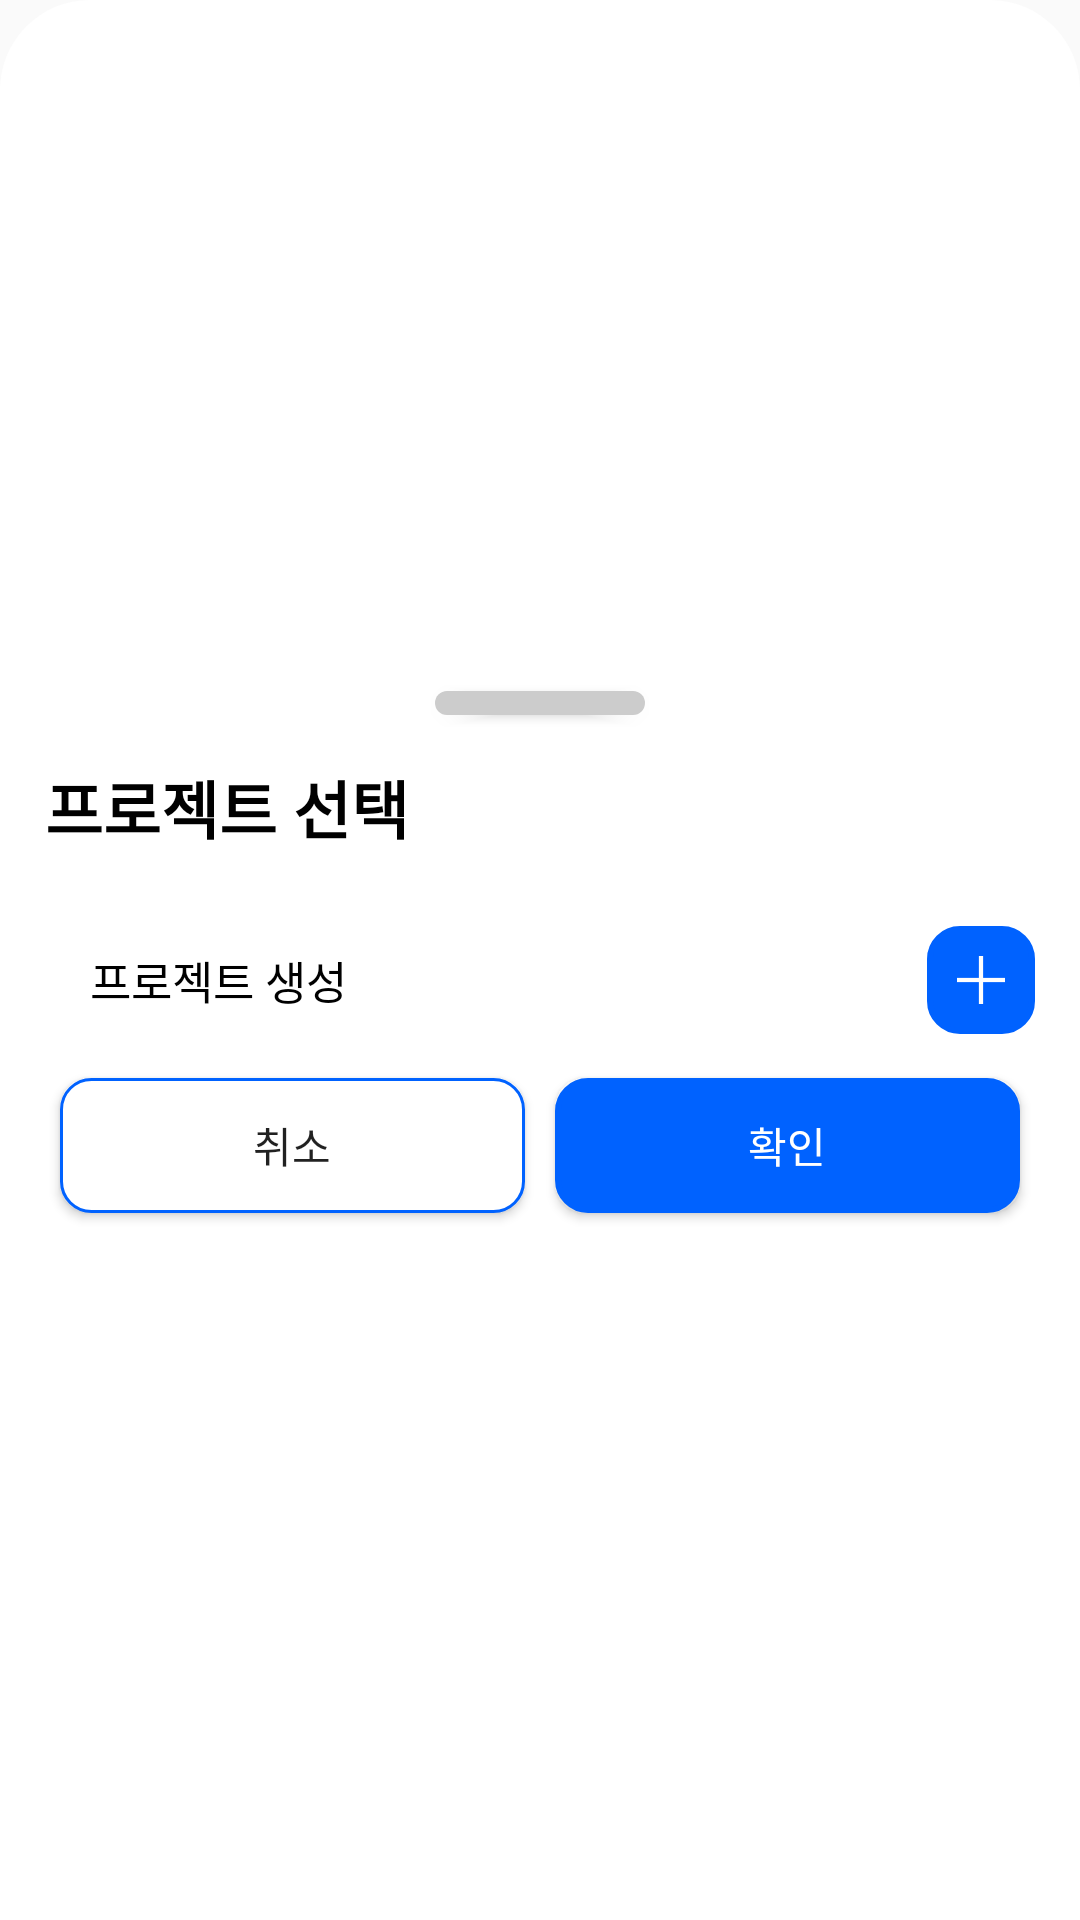

Icons on this 1080×1920 Android screen, each with its box as {"left": x1, "top": y1, "right": x2, "bottom": y2}:
plus: {"left": 927, "top": 926, "right": 1035, "bottom": 1034}
